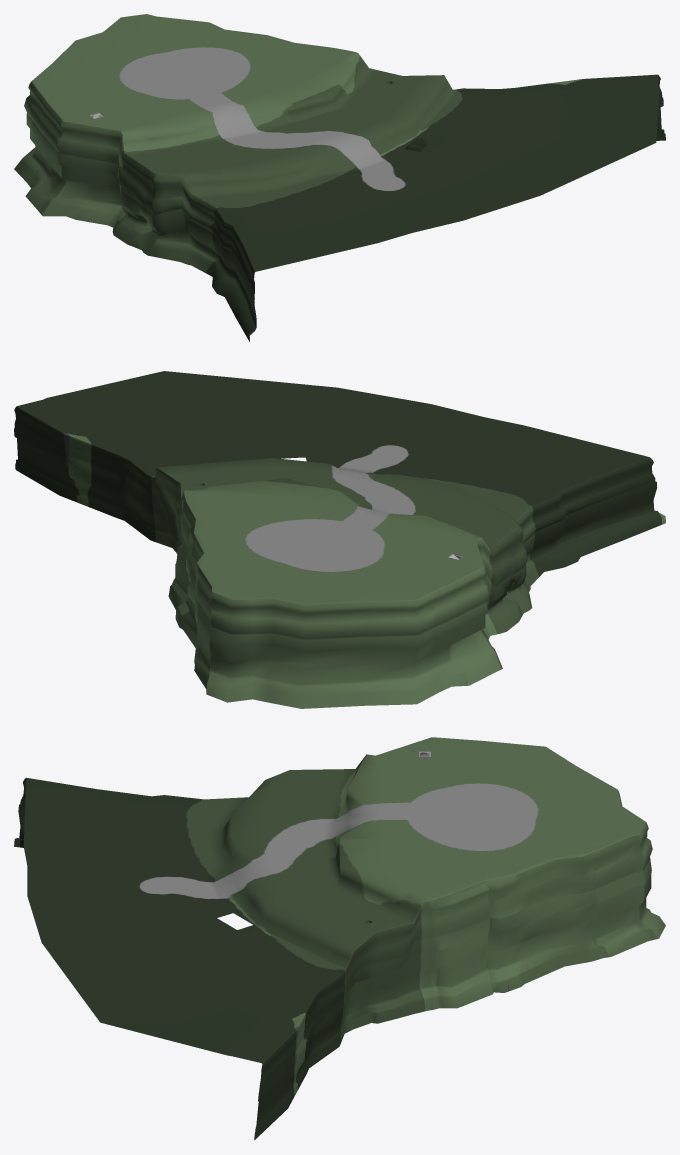
Rendered from peninsulatunnels01.fbx.
The picture shows the model from 3 angles, top to bottom: view 1: azimuth 30°, elevation 25°; view 2: azimuth 150°, elevation 25°; view 3: azimuth 270°, elevation 25°; orthographic projection. The views are drawn at different scales.
Parts seen in each view (by area): view 1: PeniBasecliff3; view 2: PeniBasecliff3; view 3: PeniBasecliff3.
Part boxes in pixels (<box>): PeniBasecliff3: <box>14,14,665,341</box>; PeniBasecliff3: <box>14,371,665,708</box>; PeniBasecliff3: <box>14,737,665,1140</box>.
Bounding box in the file's own units: 5971 × 967 × 5331.
